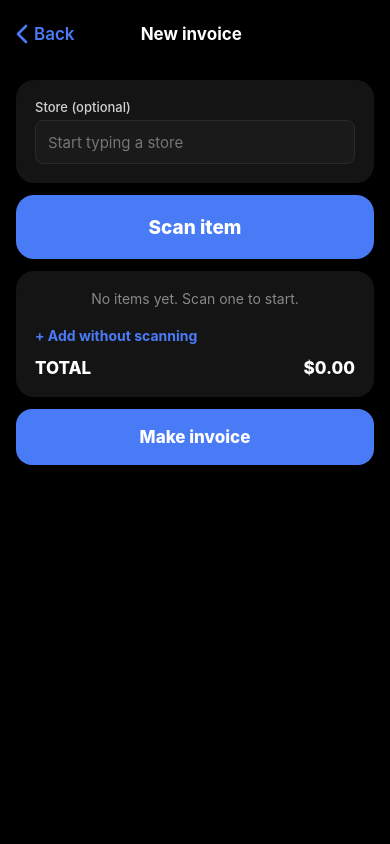
Test case: EasyInvoice › guest at the cap: Make invoice shows the account wall
Click the button "+ Add without scanning": click(116, 332) x1=35 y1=315 x2=197 y2=348
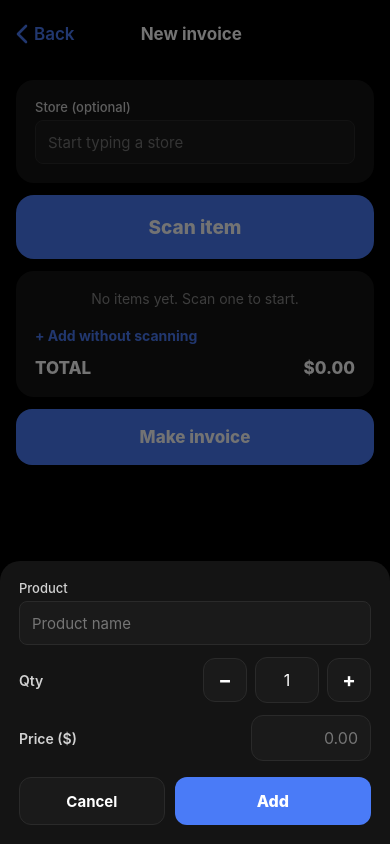
In the field with placeholder "Product name": (195, 623) x1=19 y1=601 x2=371 y2=645, type "Gildan tee"
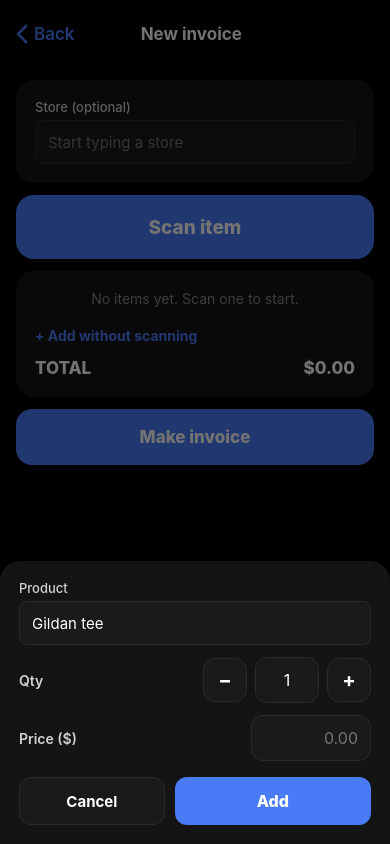
In the number field named "Price": (311, 738) x1=251 y1=715 x2=371 y2=761, type "6"
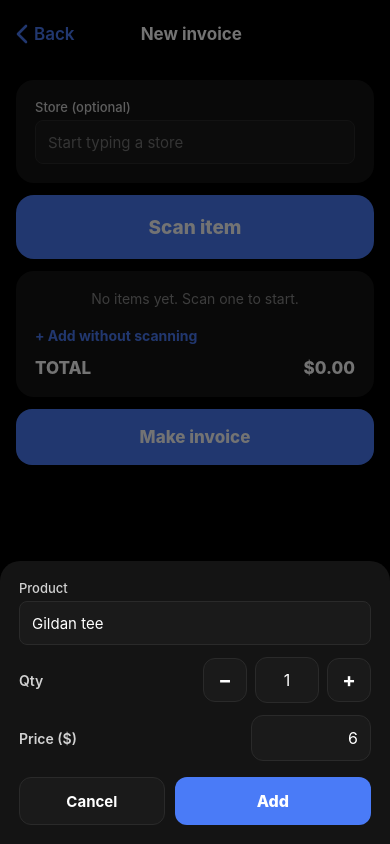
Click the button "Add": click(273, 801) x1=175 y1=777 x2=371 y2=825
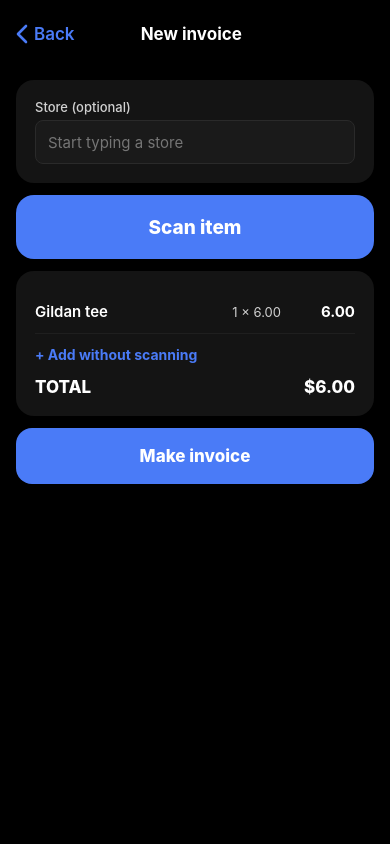
Click the button "Make invoice": click(195, 456) x1=16 y1=428 x2=374 y2=484
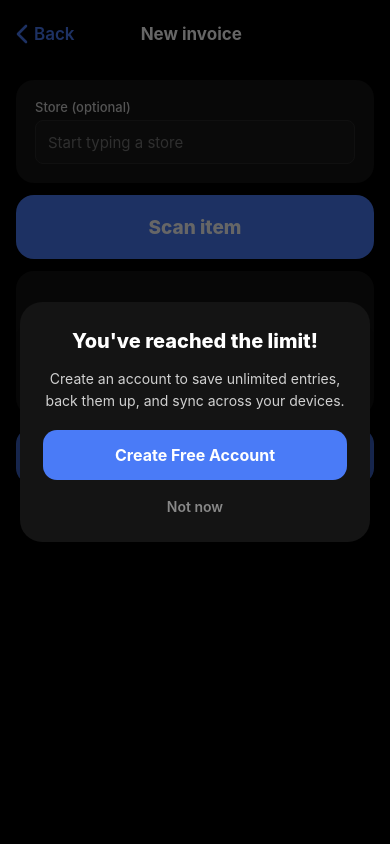
Expected: the text "You've reached the limit!" is shown, x1=72 y1=329 x2=318 y2=353
